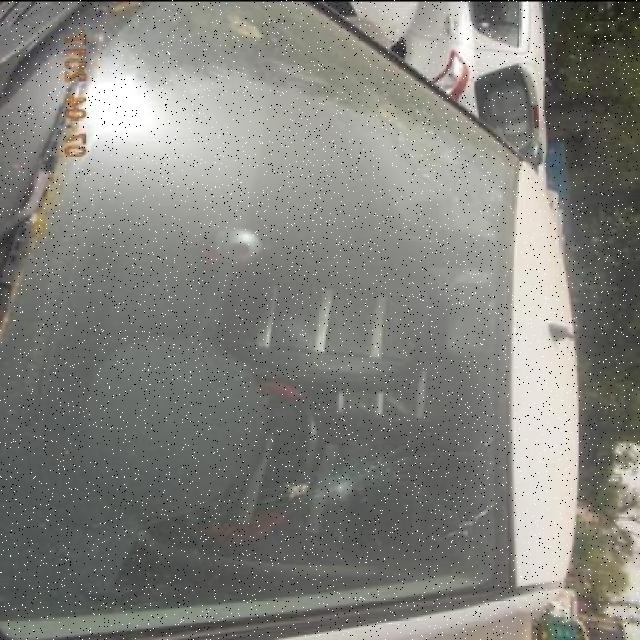damage: (232, 428, 463, 531)
